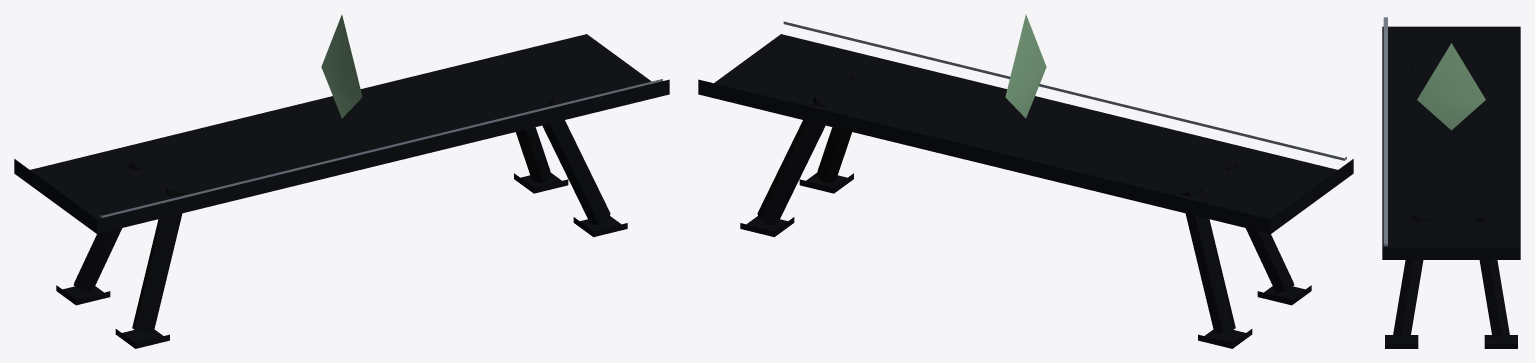
Rendered from v5_branch_bench.glb.
3 views of the same model, side by side, from view 1: azimuth 30°, elevation 25°; view 2: azimuth 150°, elevation 25°; view 3: azimuth 270°, elevation 25° (orthographic). The views are drawn at different scales.
Parts seen in each view (by area): view 1: Bench_Seat, Fork_Legs, Leg_Feet, Seat_Leaves, Seat_Edge; view 2: Bench_Seat, Fork_Legs, Leg_Feet, Seat_Leaves, Seat_Edge; view 3: Bench_Seat, Seat_Leaves, Fork_Legs, Seat_Edge, Leg_Feet.
Part boxes in pixels (<box>): Bench_Seat: <box>14,34,669,233</box>; Fork_Legs: <box>73,71,610,333</box>; Leg_Feet: <box>56,173,627,348</box>; Seat_Leaves: <box>321,14,362,118</box>; Seat_Edge: <box>99,79,662,217</box>; Bench_Seat: <box>698,34,1353,233</box>; Fork_Legs: <box>757,71,1294,333</box>; Leg_Feet: <box>740,173,1311,348</box>; Seat_Leaves: <box>1005,14,1046,118</box>; Seat_Edge: <box>783,21,1346,160</box>; Bench_Seat: <box>1382,26,1520,259</box>; Seat_Leaves: <box>1417,43,1485,130</box>; Fork_Legs: <box>1393,64,1509,337</box>; Seat_Edge: <box>1383,17,1387,246</box>; Leg_Feet: <box>1385,335,1517,348</box>.
Size of what is drawn, in the model's own units: 2 by 0.821 by 0.5.
4 materials, 3 textured.
